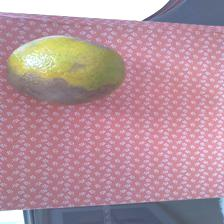Orange Rotten: (6, 26, 128, 112)
